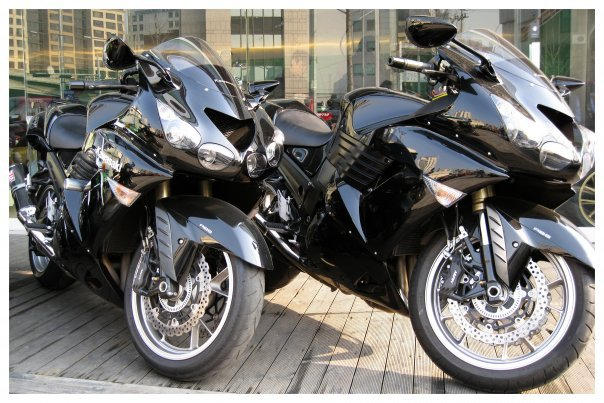bike: (222, 20, 604, 391), (16, 28, 296, 395)
